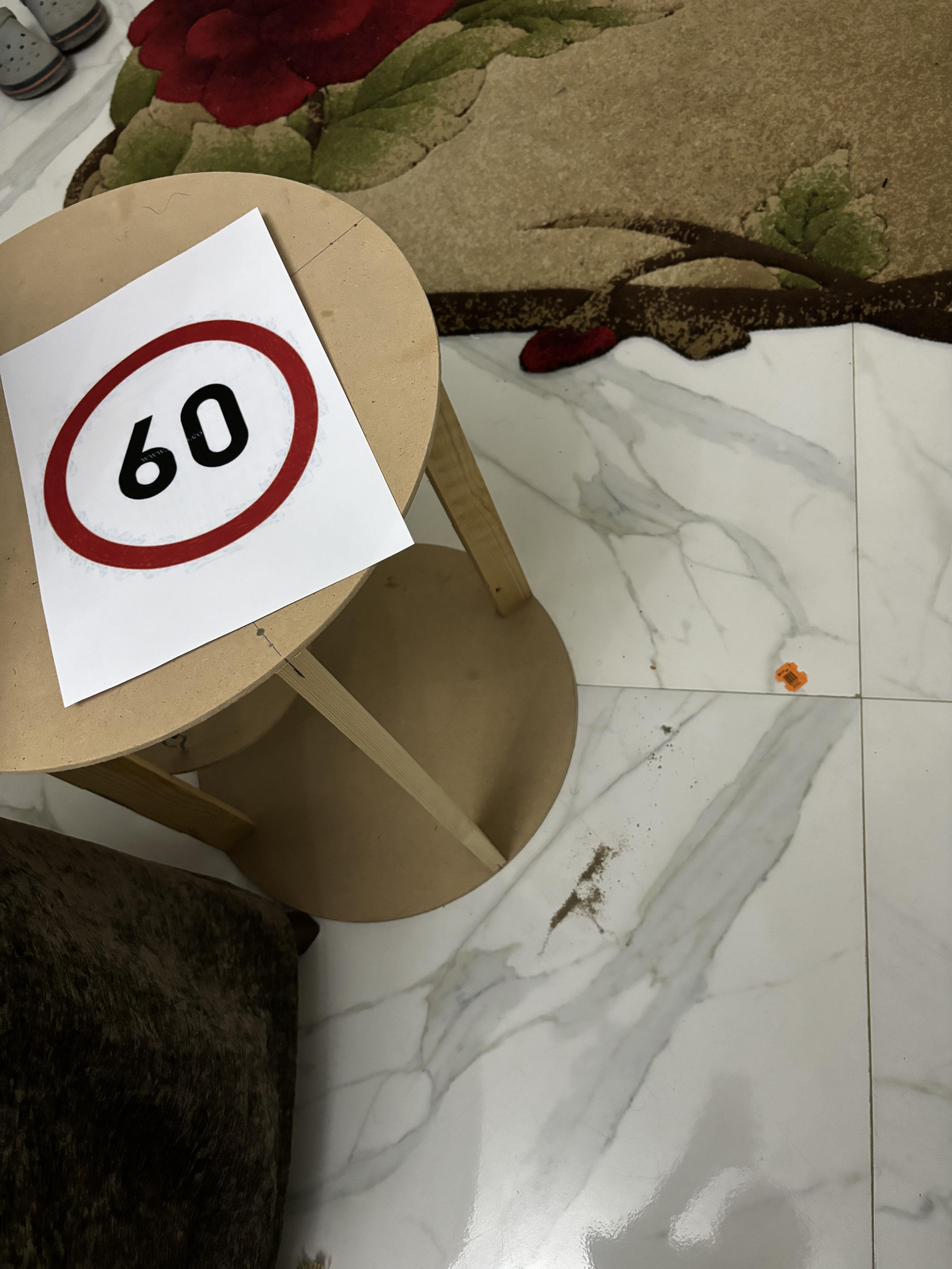60-Speed: (36, 316, 330, 579)
